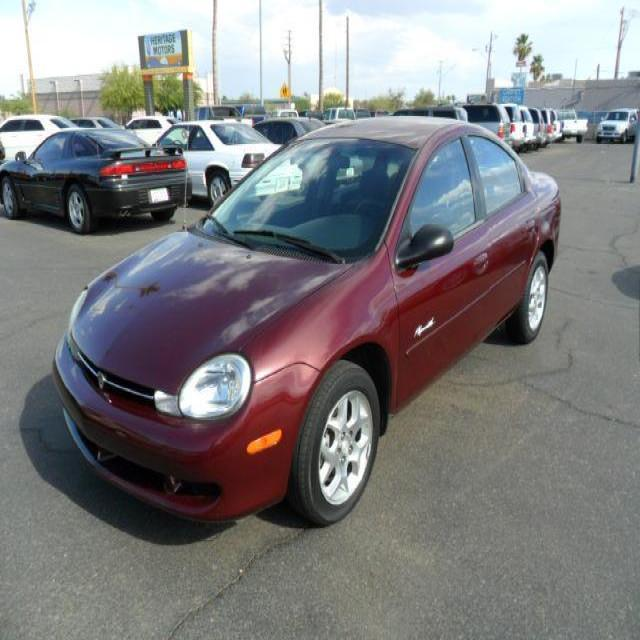Car: (49, 115, 568, 528)
